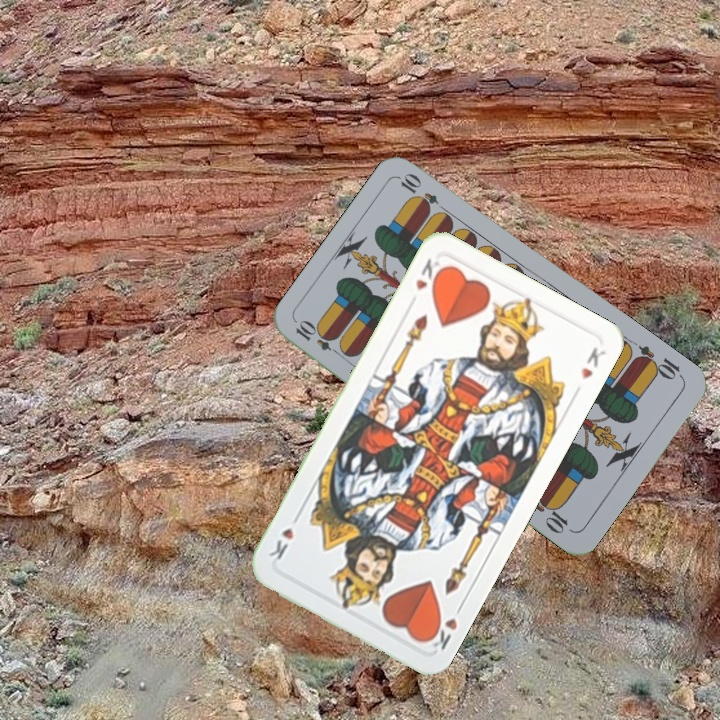E10: (630, 341, 686, 383), (291, 317, 346, 359)
HK: (422, 599, 466, 653), (411, 254, 448, 295)
